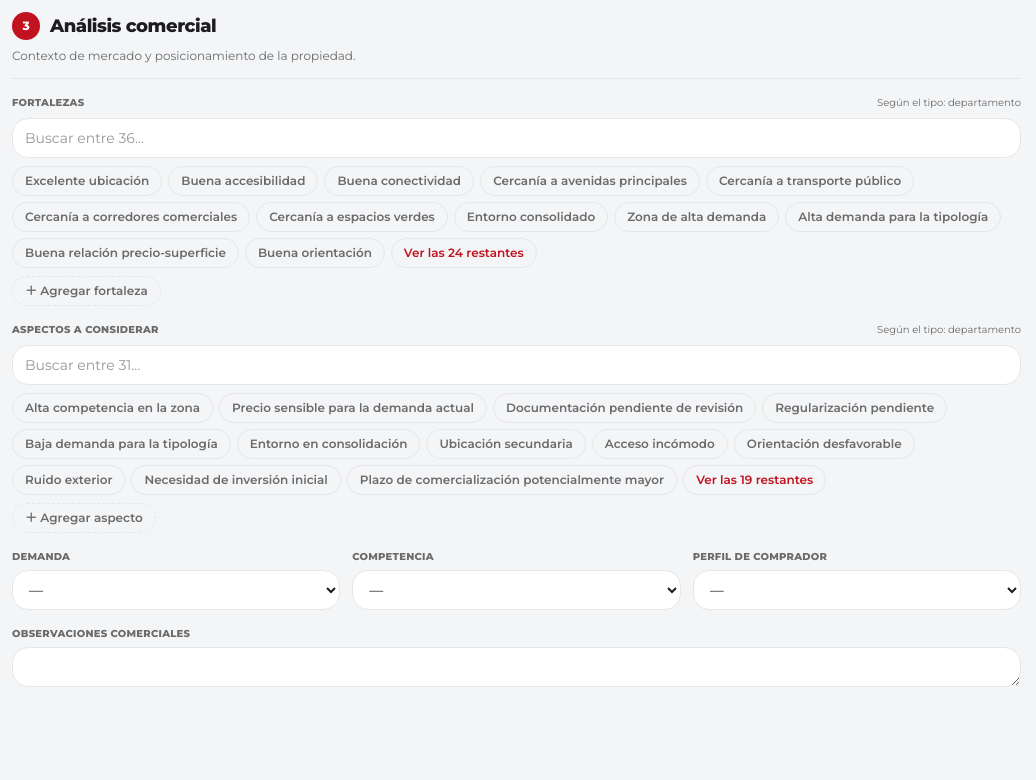
Test: sección 3 — el buscador › avisa cuando no hay nada con ese texto
In the search field named "Buscar fortalezas": (516, 138) [12, 118, 1021, 158], type "helipuerto"
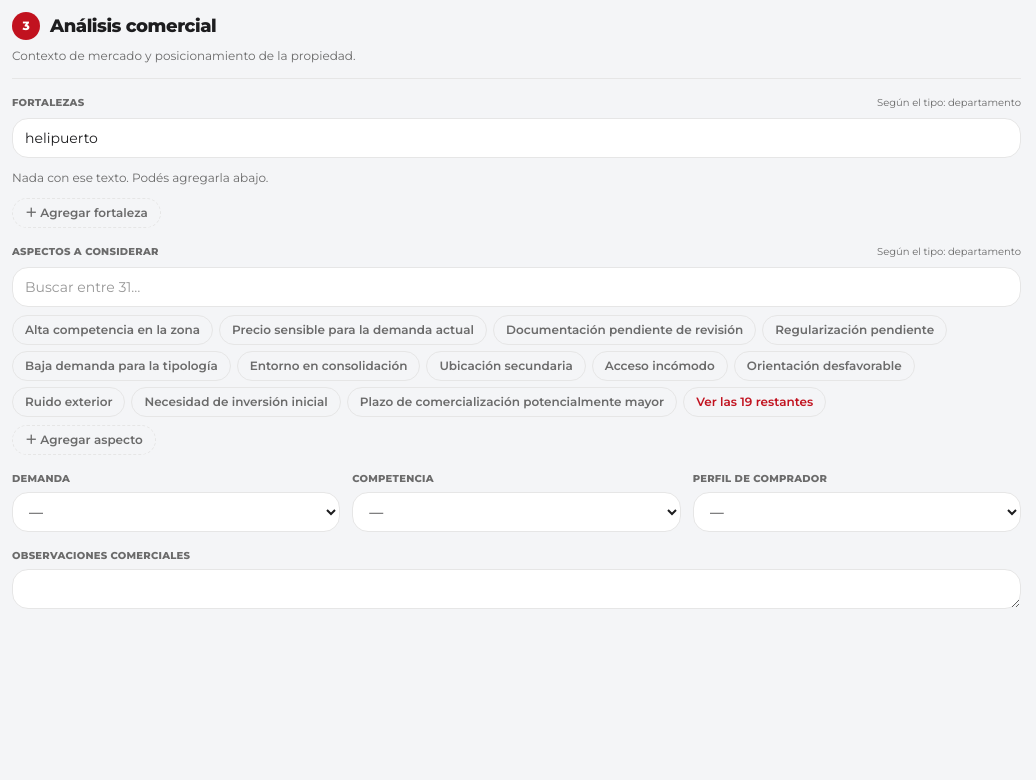
Expected: the text "Nada con ese texto. Podés agregarla abajo." is shown, [12, 166, 268, 190]
